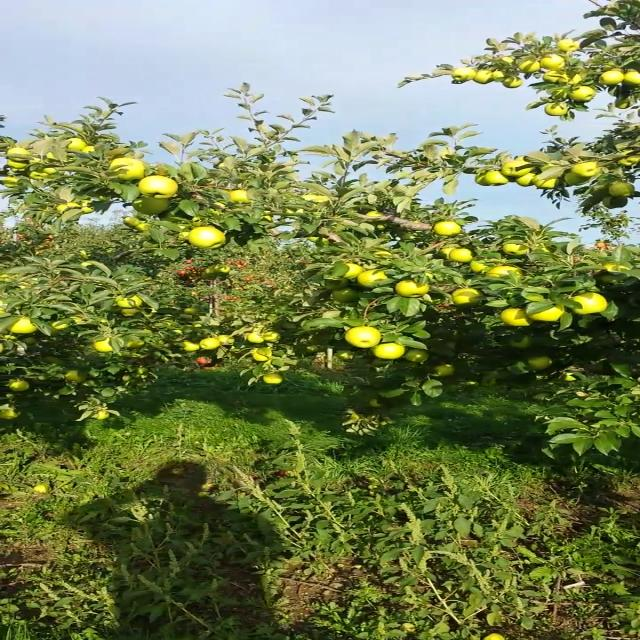apple: (188, 227, 225, 250), (140, 175, 176, 198), (110, 158, 143, 182), (571, 293, 606, 315), (132, 197, 170, 216), (344, 326, 380, 346), (597, 264, 631, 284), (451, 288, 481, 308), (501, 307, 534, 325), (356, 270, 388, 288), (394, 281, 428, 297), (529, 304, 563, 320), (5, 317, 38, 333), (372, 342, 402, 359), (501, 160, 532, 176), (540, 52, 566, 70), (329, 288, 359, 302), (569, 85, 595, 101), (433, 220, 459, 236), (486, 266, 518, 278), (115, 294, 142, 308), (572, 163, 600, 176), (483, 171, 509, 185), (449, 248, 475, 262), (502, 242, 532, 254), (452, 68, 477, 82), (602, 196, 628, 209), (516, 58, 540, 72), (599, 71, 623, 85), (610, 182, 634, 196), (470, 258, 494, 272), (528, 357, 553, 370), (8, 148, 31, 162), (554, 39, 580, 51), (341, 262, 360, 278), (472, 72, 497, 84), (93, 338, 114, 352), (514, 173, 538, 185), (566, 173, 590, 185), (58, 202, 80, 215), (229, 189, 249, 203), (535, 177, 558, 189), (431, 365, 454, 377), (622, 70, 639, 86), (1, 404, 19, 419), (510, 335, 532, 347), (406, 350, 428, 362), (298, 194, 330, 202), (544, 70, 565, 82), (559, 73, 580, 85), (66, 138, 84, 152), (438, 246, 456, 260), (65, 370, 86, 382), (544, 104, 566, 115), (589, 184, 609, 196), (199, 337, 219, 349), (181, 339, 200, 351), (474, 170, 488, 186), (326, 279, 348, 289), (618, 156, 639, 166), (600, 61, 623, 70), (8, 158, 28, 168), (8, 382, 28, 392), (215, 335, 234, 345), (502, 75, 519, 86), (18, 335, 36, 345), (263, 373, 281, 383), (190, 216, 207, 226), (246, 332, 263, 342), (80, 201, 94, 213), (124, 216, 140, 226), (50, 321, 66, 331), (262, 332, 278, 342), (333, 351, 352, 359), (616, 98, 631, 108), (27, 171, 48, 178), (121, 308, 139, 316), (68, 316, 86, 324), (4, 178, 18, 188), (127, 340, 144, 348), (261, 209, 272, 221), (216, 264, 229, 274), (252, 352, 268, 360), (364, 211, 384, 217), (372, 250, 392, 256), (81, 146, 95, 154), (10, 166, 24, 174), (134, 224, 148, 232), (202, 272, 216, 280), (493, 74, 506, 82), (0, 273, 11, 282), (97, 409, 108, 418), (45, 152, 57, 160), (183, 309, 199, 315), (306, 345, 316, 354), (369, 400, 382, 406), (502, 57, 514, 63), (42, 168, 54, 174), (204, 268, 216, 274), (226, 268, 236, 275), (180, 232, 188, 240)
